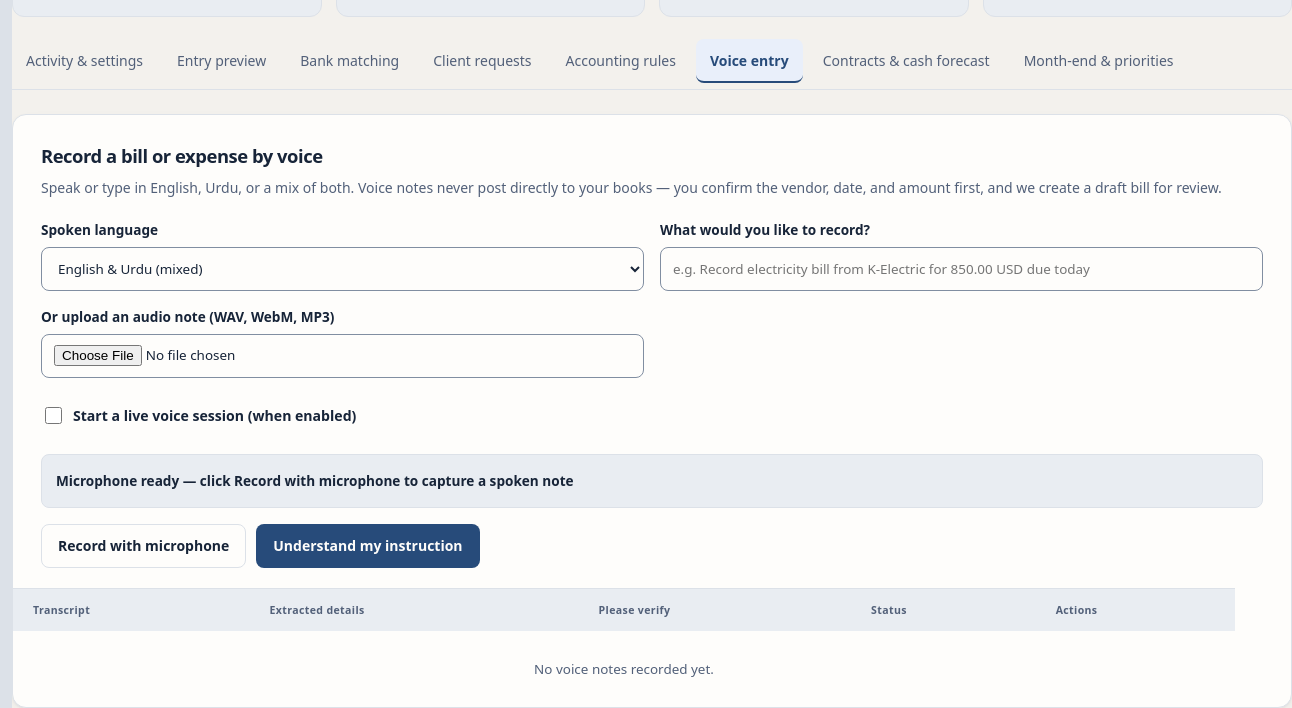
it: AI accounting assistant UI › shows visible inline microphone error on denied permission and starts live recording when permitted
Later steps or results of the test are not shown.
(page scrolled)
Click the button "Record with microphone".
click(144, 546)  # box top-left (41, 524), bottom-right (246, 568)
(page scrolled)
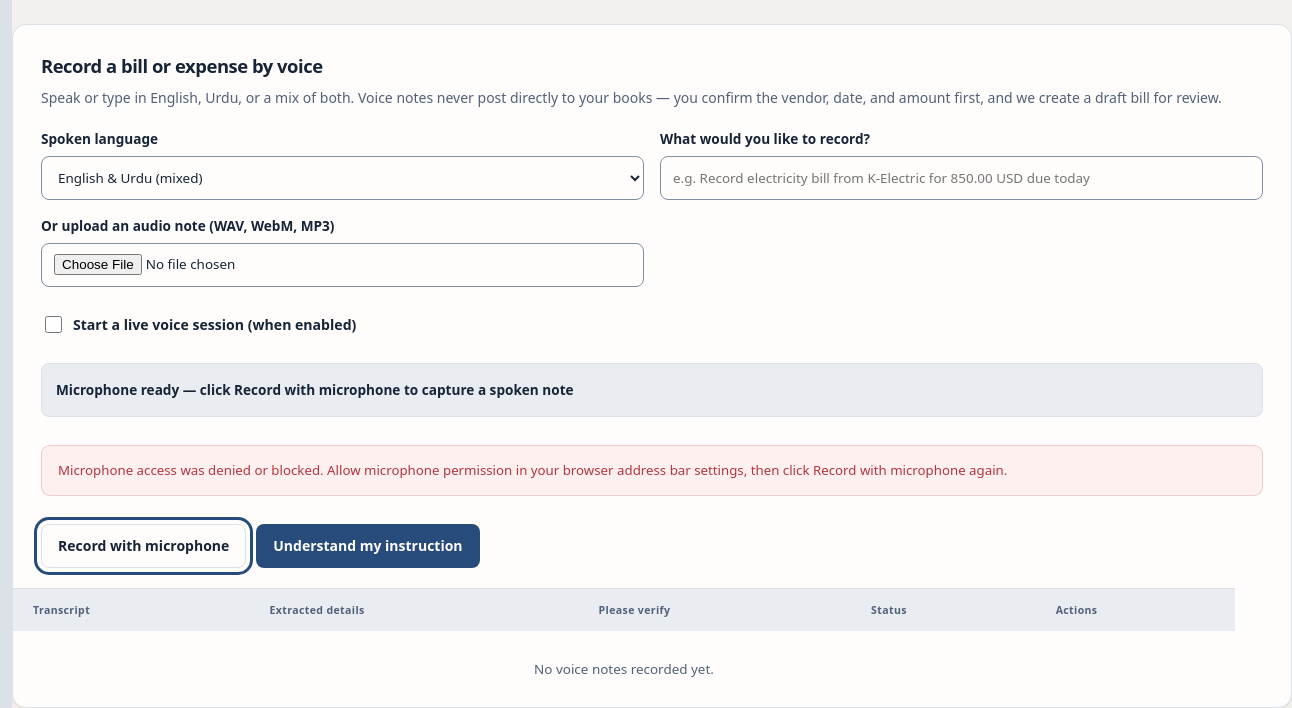
Check: the 2nd message shows "Microphone access was denied", box top-left (58, 461), bottom-right (1007, 479)
Click the button "Record with microphone".
click(144, 546)  # box top-left (41, 524), bottom-right (246, 568)
(page scrolled)
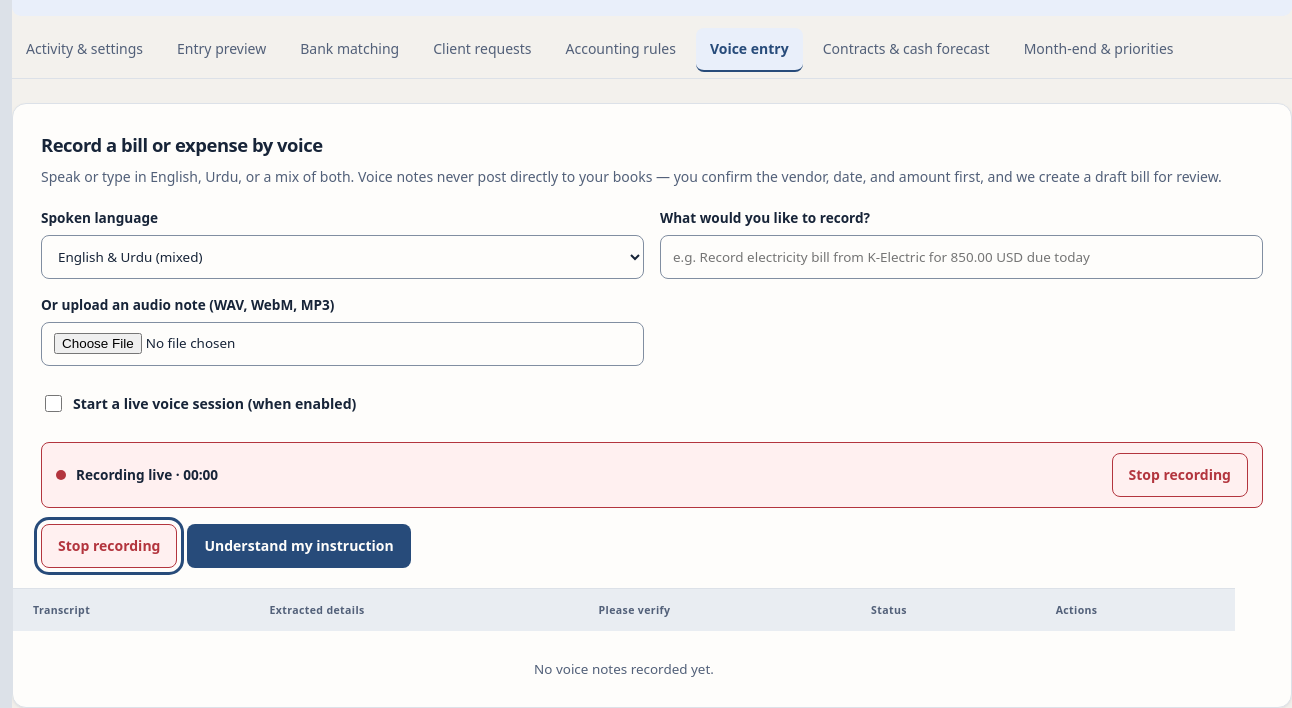
Check: the text "Recording live · 00:00" is shown, box top-left (56, 465), bottom-right (218, 484)
